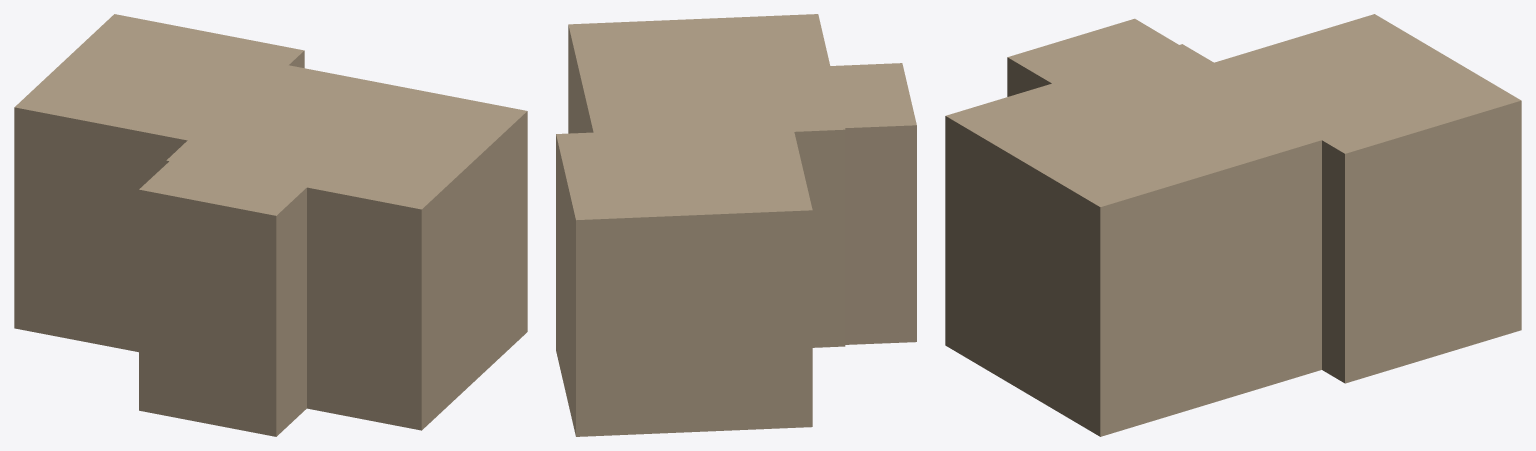
File: bld_106339073.dae
3 renders of one model, left to right at view 1: azimuth 30°, elevation 25°; view 2: azimuth 150°, elevation 25°; view 3: azimuth 270°, elevation 25°, orthographic. The views are drawn at different scales.
Parts seen in each view (by area): view 1: bld_106339073; view 2: bld_106339073; view 3: bld_106339073.
Boxes of the visible parts, x1,y1,x2,y2 form: bld_106339073: (14, 14, 527, 436); bld_106339073: (556, 14, 916, 436); bld_106339073: (945, 14, 1521, 436).
Bounding box in the file's own units: 14.43 × 18.18 × 8.
